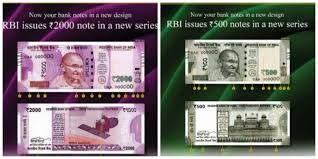fiveHundred: (188, 47, 281, 77)
